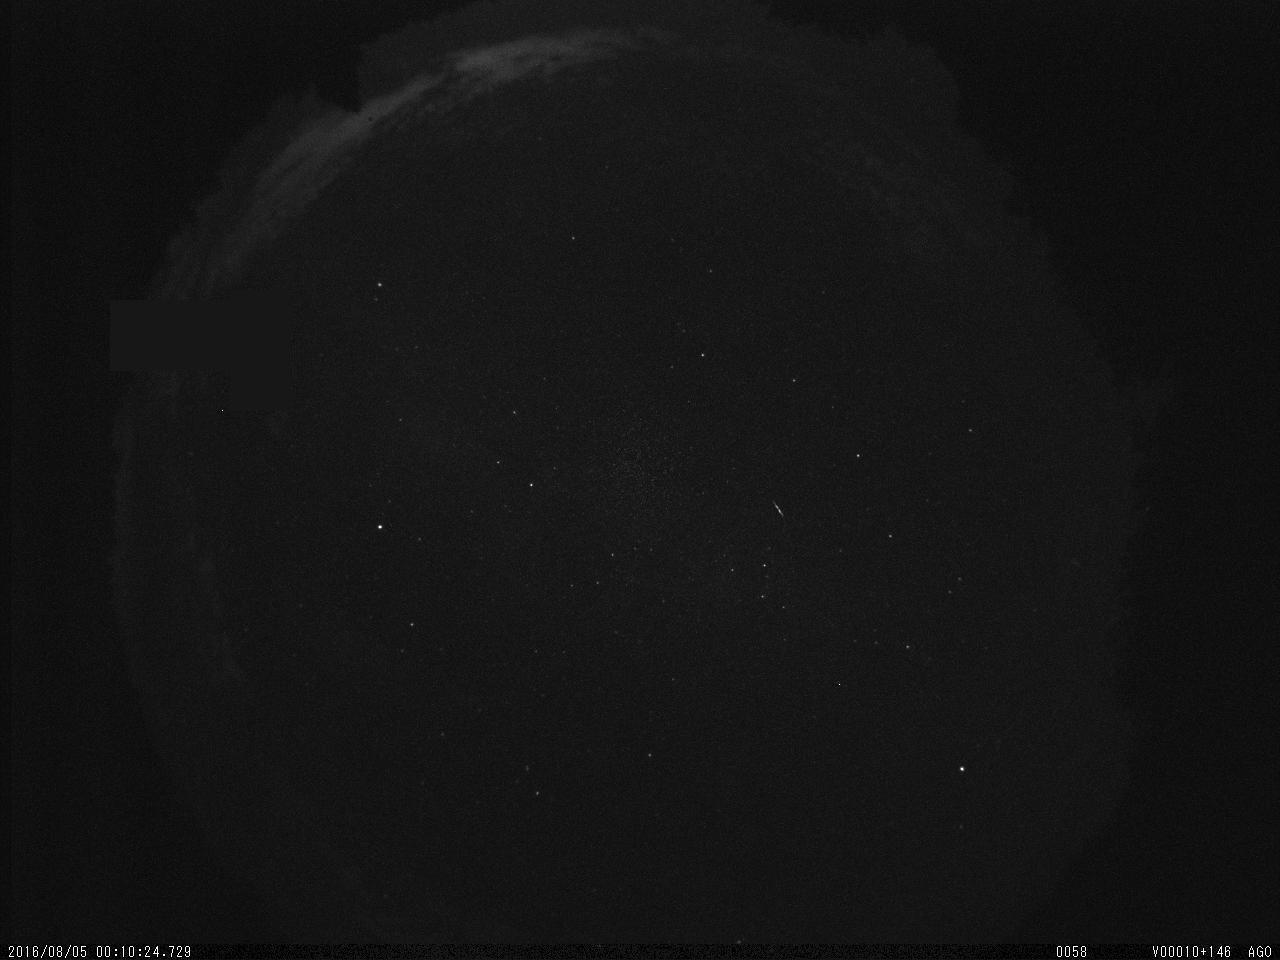Meteor: (770, 498, 785, 518)
